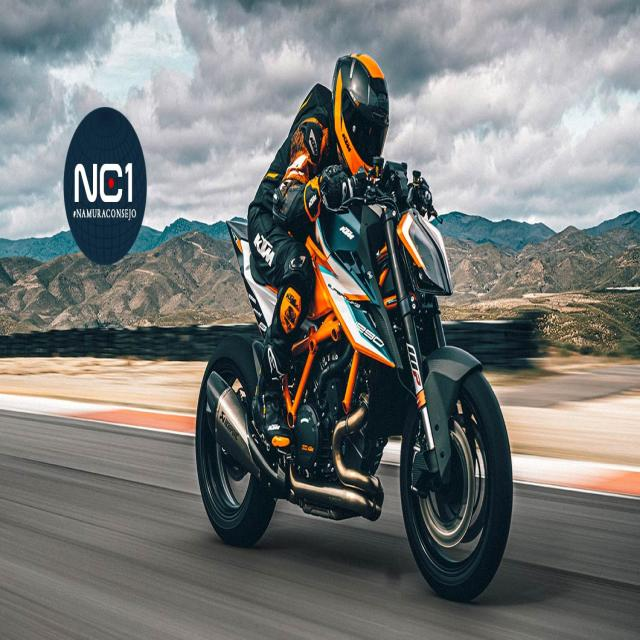MOTORCYCLE: (195, 147, 501, 601)
